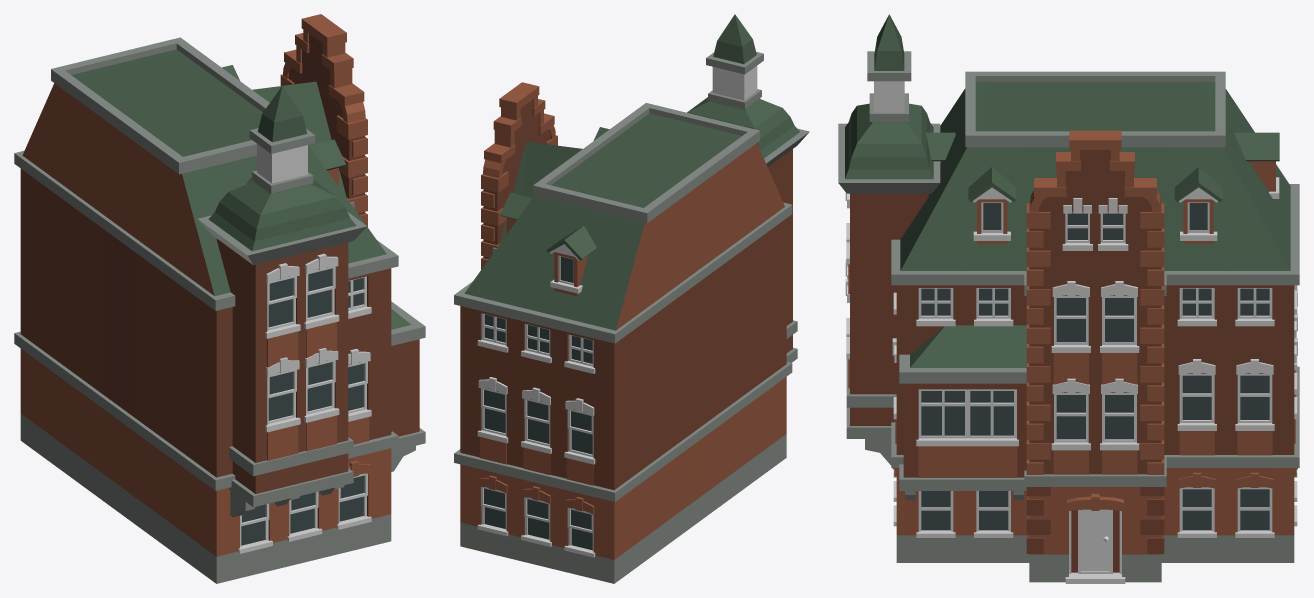
Rendered from House-2-2.glb.
The picture shows the model from 3 angles, left to right: view 1: azimuth 30°, elevation 25°; view 2: azimuth 150°, elevation 25°; view 3: azimuth 270°, elevation 25°; orthographic projection. The views are drawn at different scales.
Parts seen in each view (by area): view 1: Main-2-2, Tower-2-2, WallExtension-2-2, RoofWindowFront-2-2; view 2: Main-2-2, Tower-2-2, RoofWindowSide-2-2, RoofWindowFront-2-2; view 3: Main-2-2, Tower-2-2, WallExtension-2-2, RoofWindowFront-2-2, RoofWindowSide-2-2.
Part boxes in pixels (x1,y1,x2,y2): Main-2-2: (14,14,398,583); Tower-2-2: (197,85,367,517); WallExtension-2-2: (391,301,425,471); RoofWindowFront-2-2: (222,65,346,186); Main-2-2: (454,82,792,583); Tower-2-2: (687,14,809,362); RoofWindowSide-2-2: (546,226,596,296); RoofWindowFront-2-2: (500,127,609,233); Main-2-2: (891,71,1299,583); Tower-2-2: (838,14,940,465); WallExtension-2-2: (899,325,1029,499); RoofWindowFront-2-2: (968,167,1222,243); RoofWindowSide-2-2: (925,132,1279,201).
Size of the model in its own units: 7.85 by 16.21 by 13.74.
Materials: 2 (2 with a texture image).
